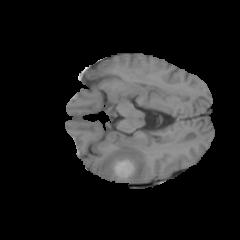glioma: (91, 134, 157, 183)
